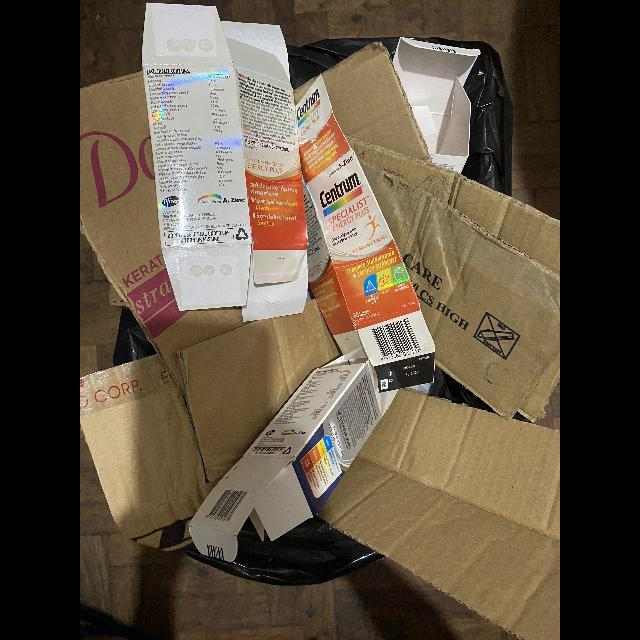paper: (80, 300, 343, 551), (318, 390, 560, 640), (349, 139, 560, 420), (80, 71, 243, 398), (142, 3, 308, 322), (297, 75, 436, 393), (188, 356, 398, 562), (321, 42, 432, 164), (393, 38, 481, 174)
